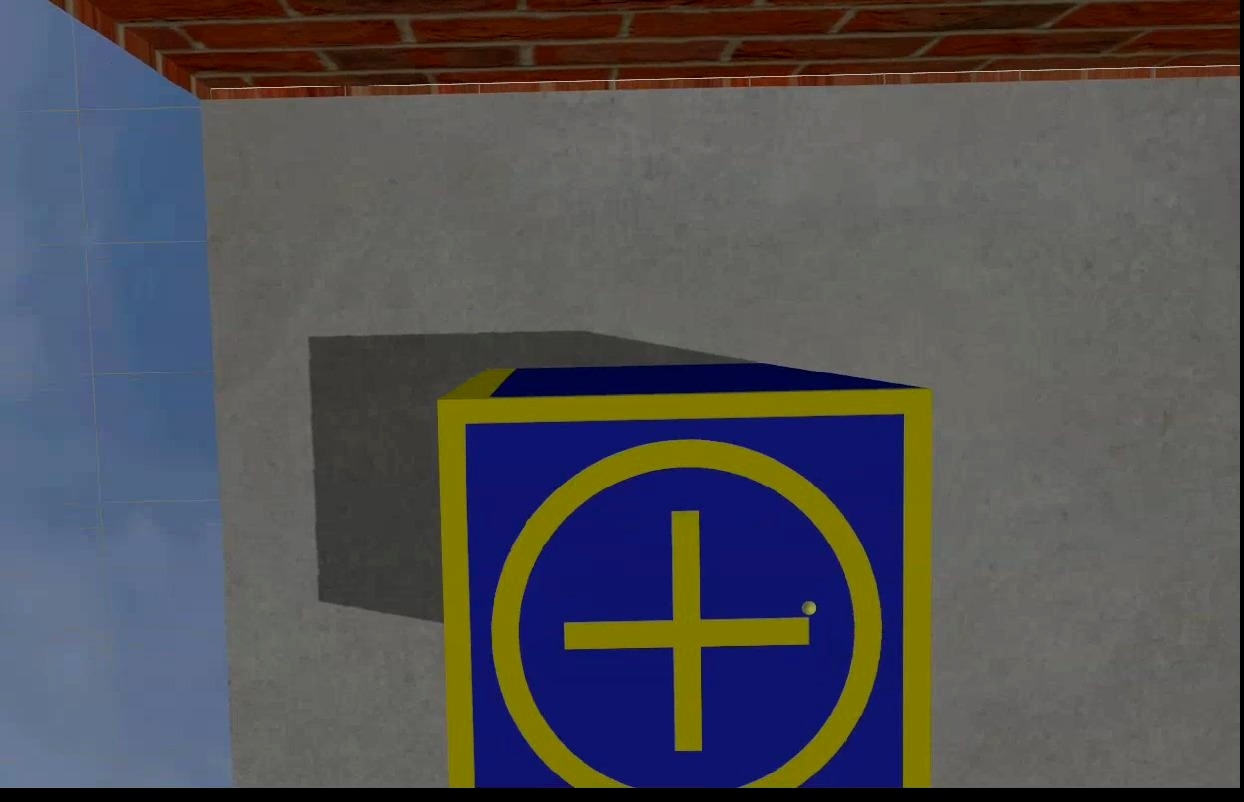small_base: (435, 385, 929, 788)
